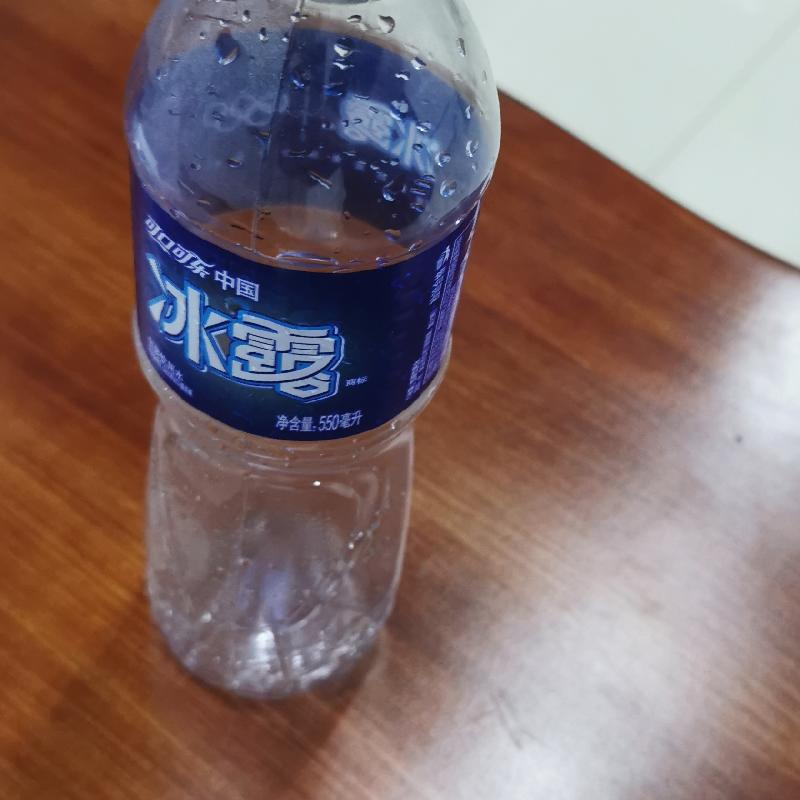bottles: (119, 1, 504, 707)
